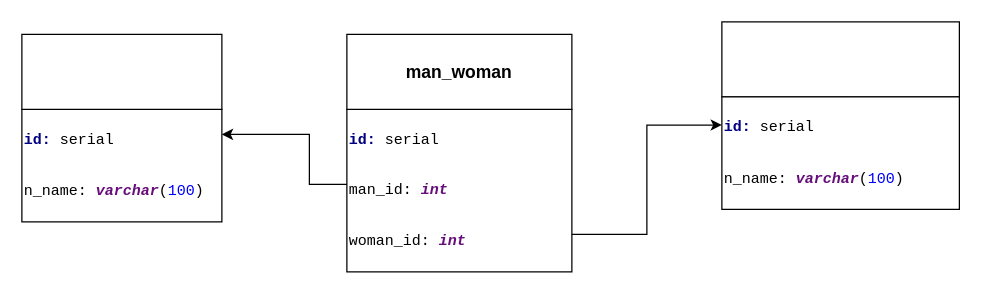
Some shapes in this 981 by 294 pixel diagram are drawn without their labels. The box of each missing label's shape, as (x1, y1, x2, y2) in pixels:
man: (21, 33, 222, 109)
woman: (721, 21, 959, 97)
